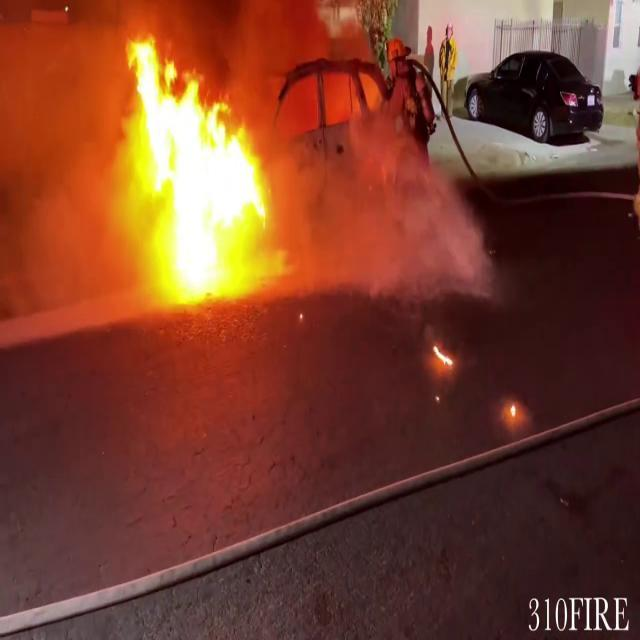Fire: (115, 37, 282, 310)
